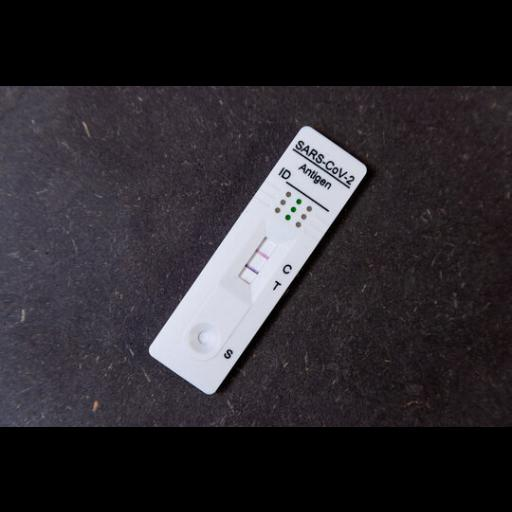Pos: (144, 124, 369, 397)
